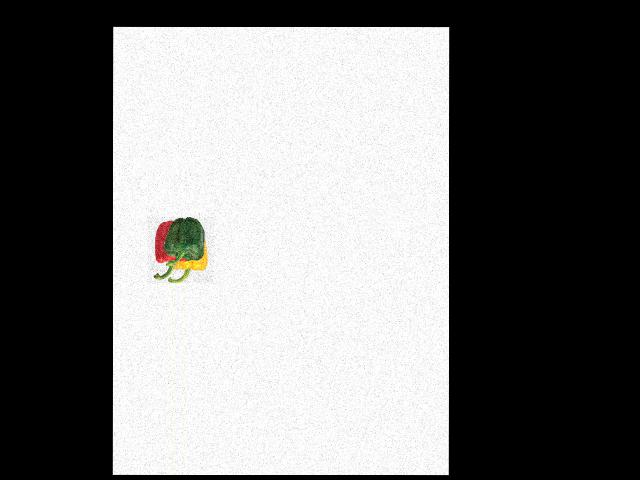bell_pepper: (147, 219, 185, 281)
